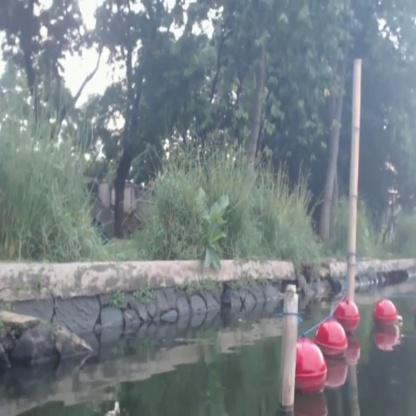red_buoy: (297, 340, 329, 393), (318, 316, 347, 358), (332, 297, 361, 326), (372, 297, 396, 332)
